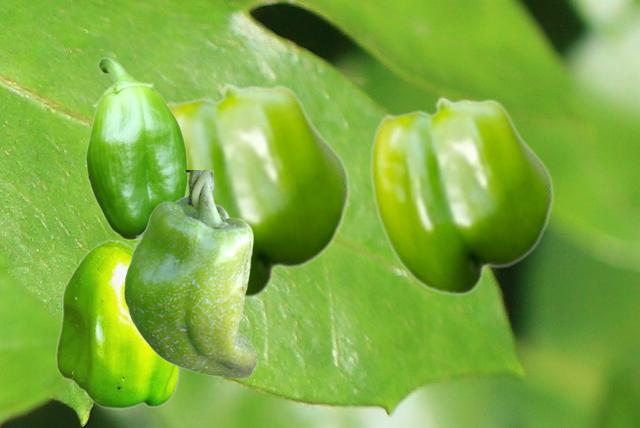bell_pepper: (166, 82, 349, 298), (370, 96, 553, 295), (123, 170, 256, 377), (55, 239, 181, 408), (85, 57, 187, 239)
